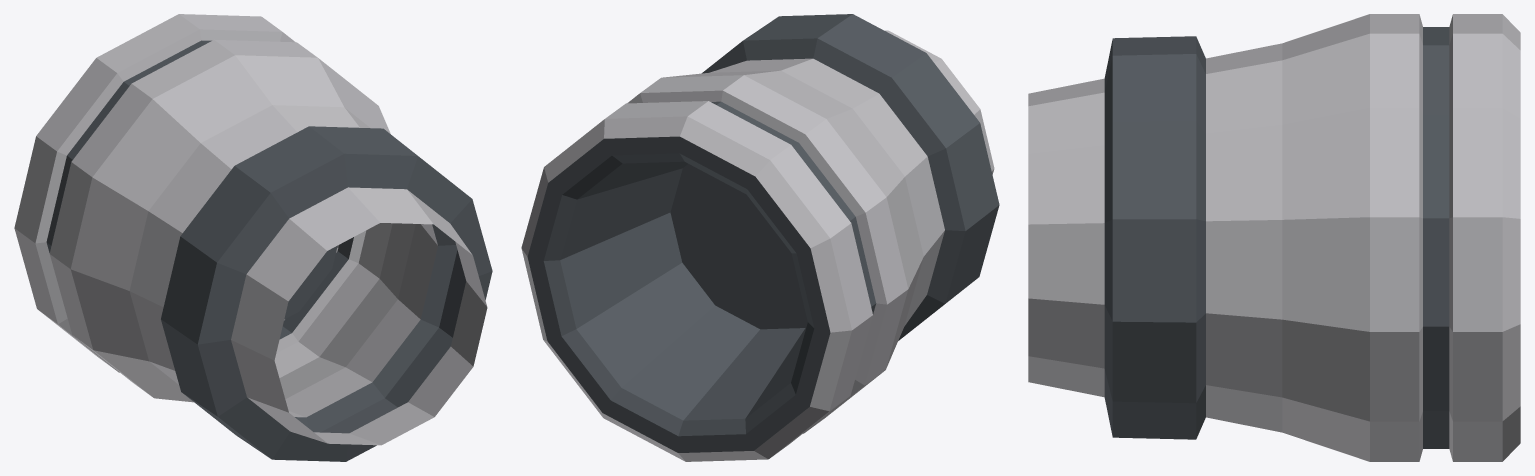
Rendered from Mothership_01_Thruster.fbx.
3 renders of one model, left to right at view 1: azimuth 30°, elevation 25°; view 2: azimuth 150°, elevation 25°; view 3: azimuth 270°, elevation 25°, orthographic. The views are drawn at different scales.
Visible parts, largest first — view 1: Mothership_01_Thruster; view 2: Mothership_01_Thruster; view 3: Mothership_01_Thruster.
Boxes of the visible parts, x1,y1,x2,y2 form: Mothership_01_Thruster: (14, 14, 492, 461); Mothership_01_Thruster: (521, 14, 999, 461); Mothership_01_Thruster: (1028, 14, 1520, 461).
Size of the model in its own units: 734 by 734 by 804.
Materials: 1 (1 with a texture image).
